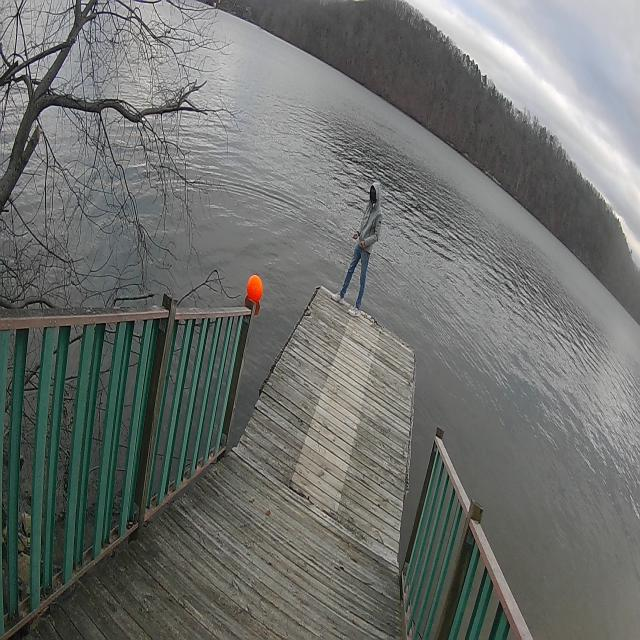Buoy: (246, 273, 264, 306)
